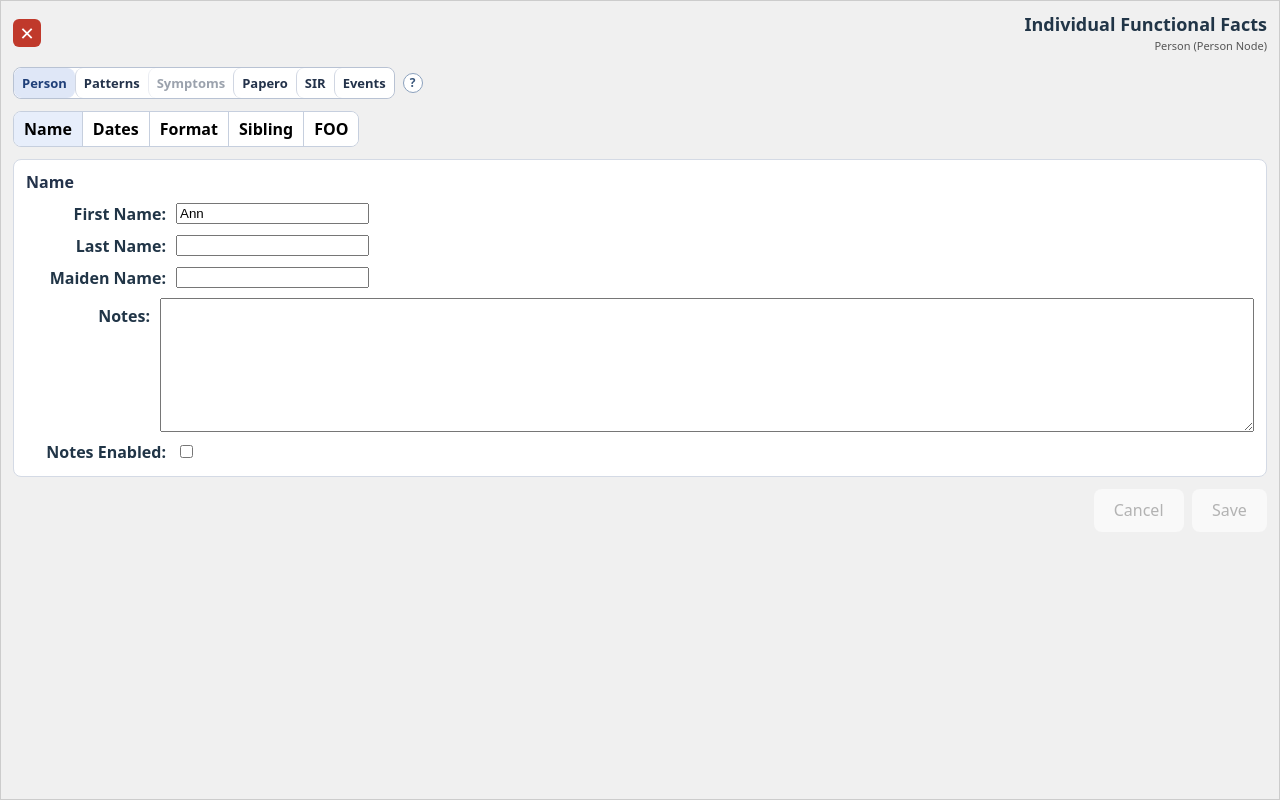
Test: Events tab — each row acts on the entity that owns it › a new event starts with no date and no rating (author decisions 3 and 4)
The image size is (1280, 800).
Step 1. Click the tab "Events" → click(364, 82), box x1=334 y1=68 x2=394 y2=98
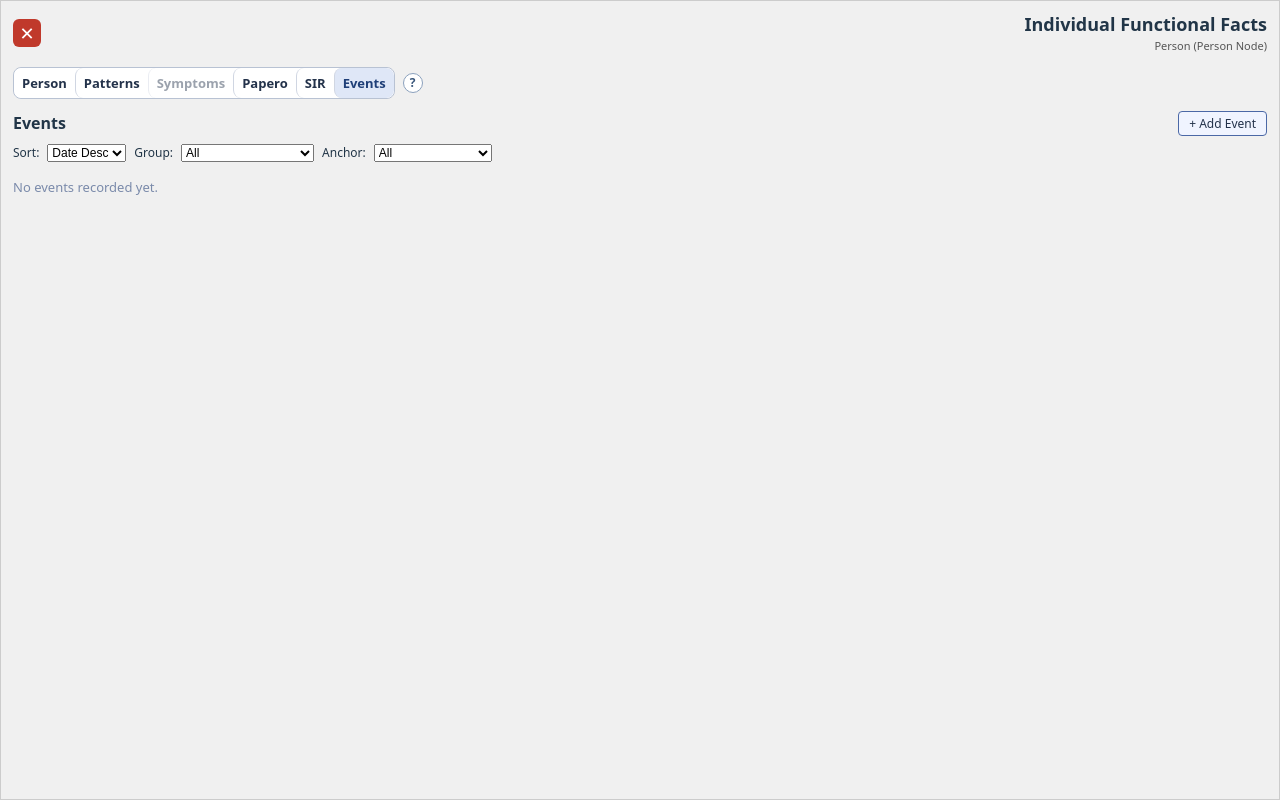
Step 2. Click the button "+ Add Event" → click(1223, 123), box x1=1178 y1=110 x2=1267 y2=136
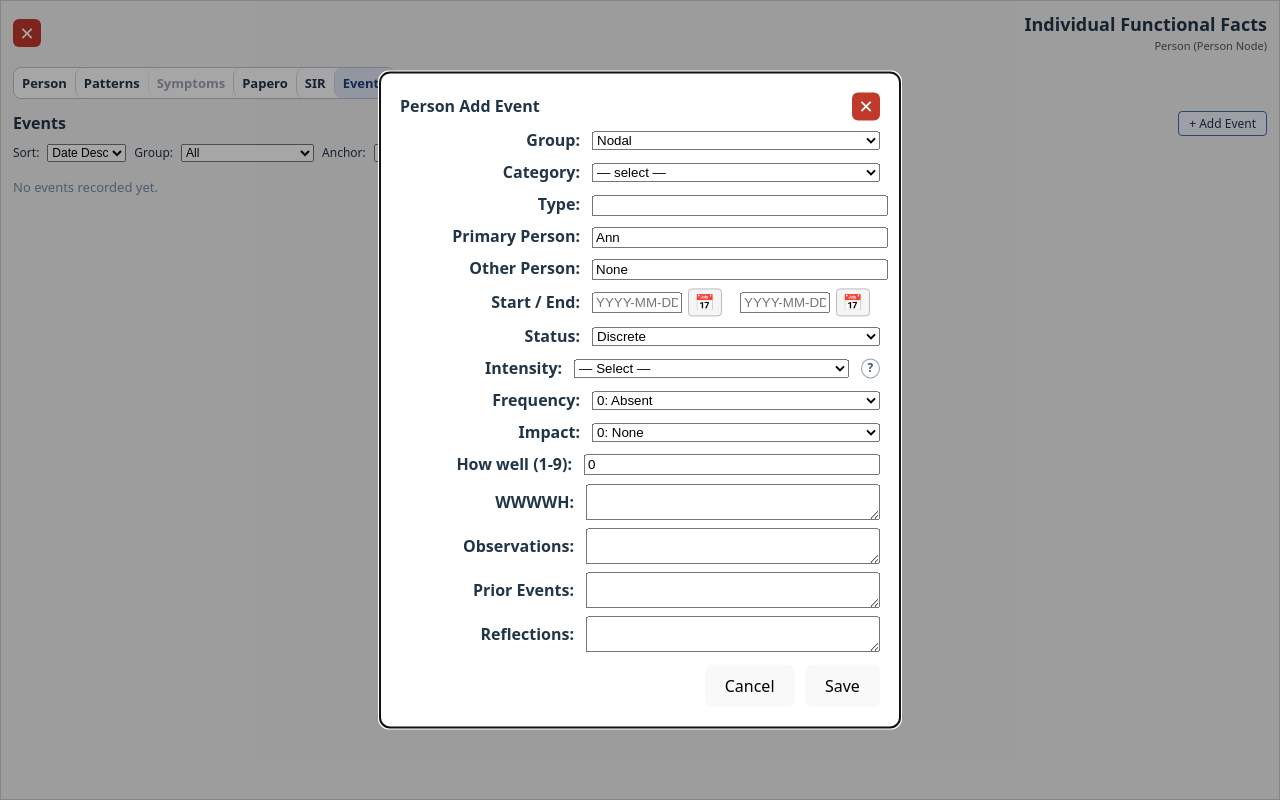
Now the field with id "eventStartDate" is empty, box x1=592 y1=292 x2=682 y2=313
Now the dropdown labelled "Intensity:" shows "— Select —", box x1=574 y1=359 x2=849 y2=378
Now the dropdown labelled "Category:" shows "— select —", box x1=592 y1=163 x2=880 y2=182
